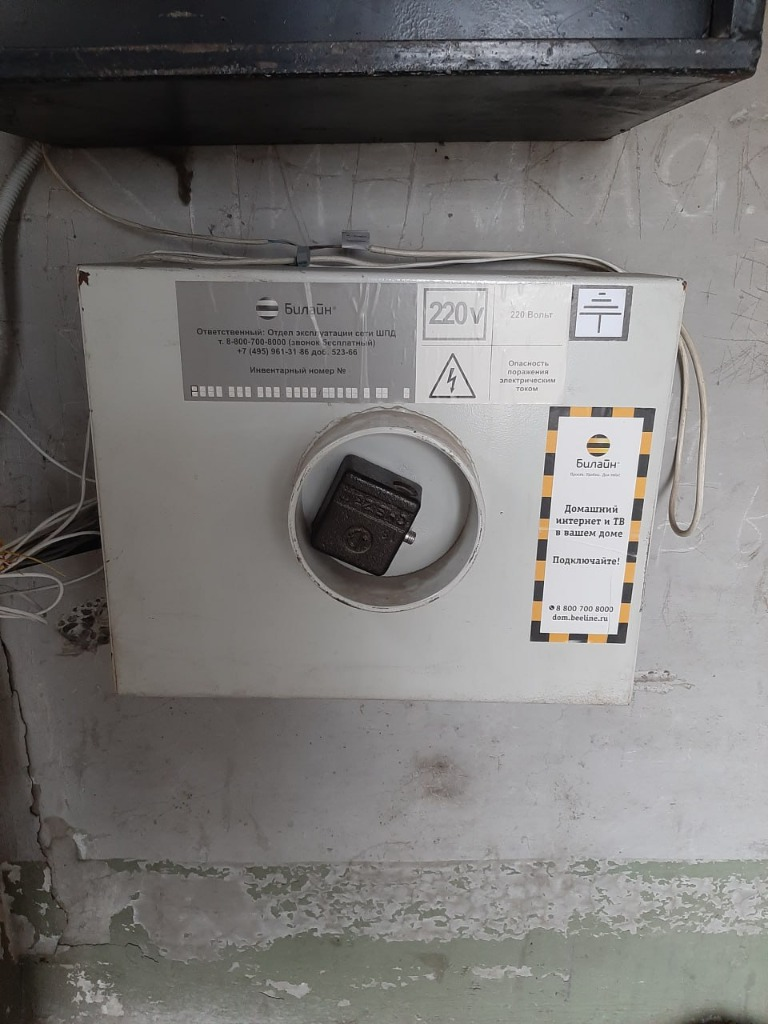shta-3: (69, 261, 691, 711)
